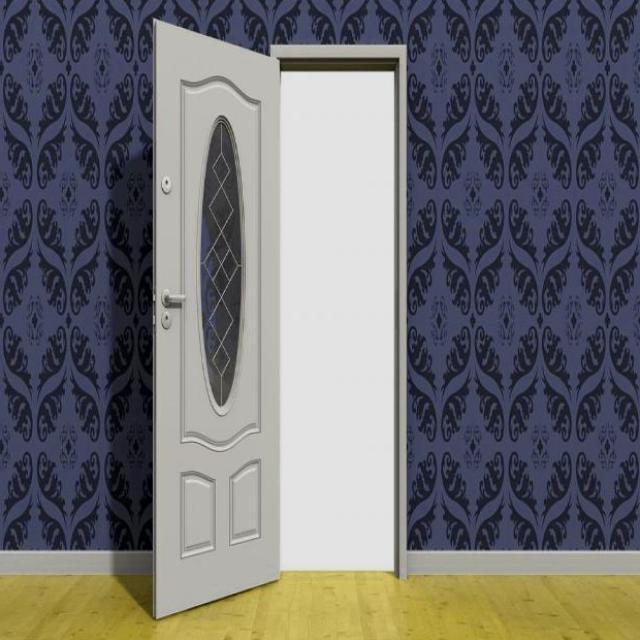door: (151, 17, 282, 619)
